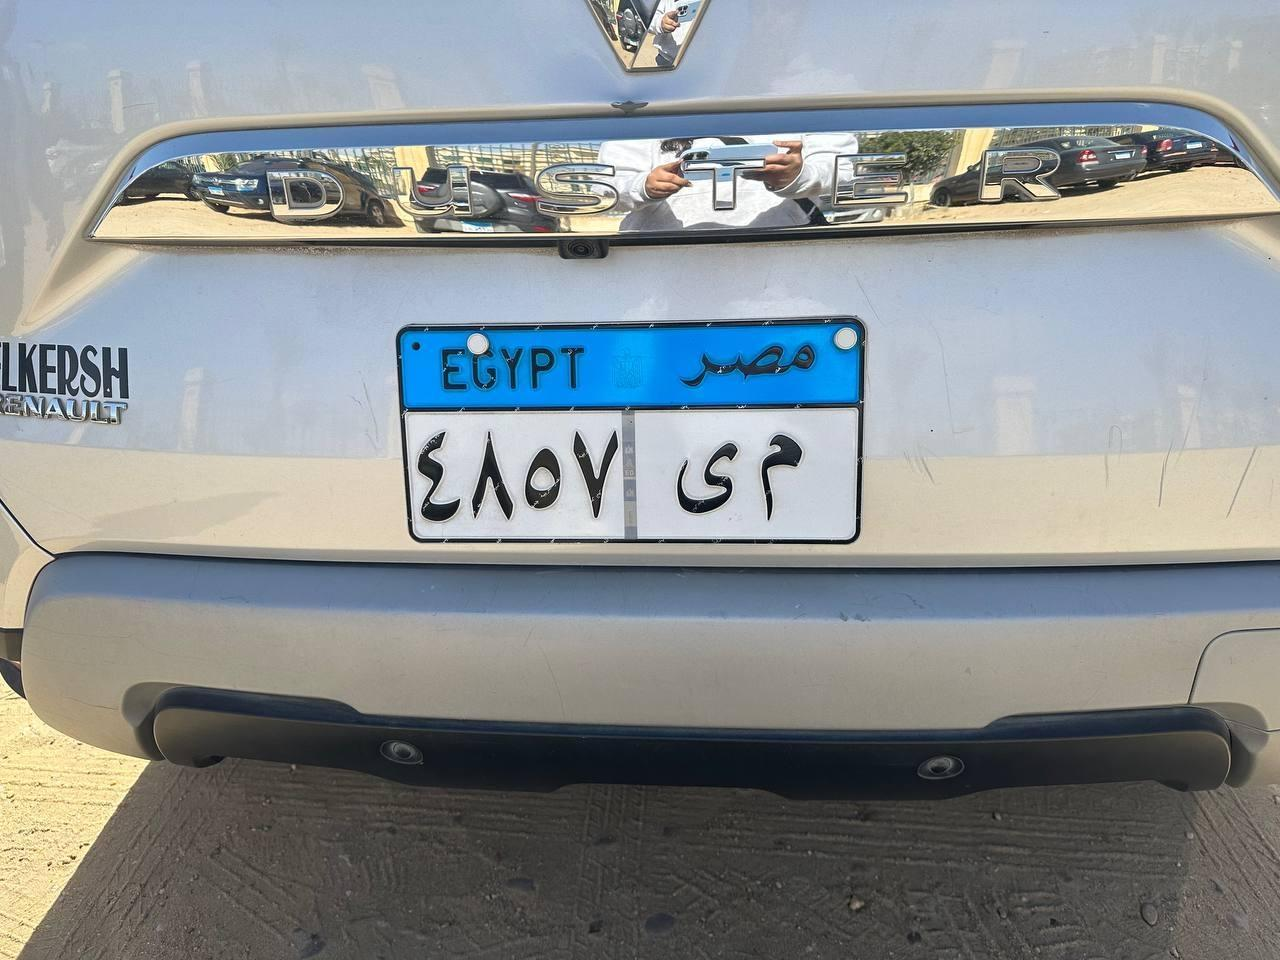4: (409, 422, 462, 528)
5: (523, 446, 562, 522)
7: (562, 421, 624, 518)
8: (458, 430, 514, 530)
License Plate: (392, 312, 856, 542)
Meem: (757, 422, 801, 536)
Yeeh: (664, 440, 739, 525)
